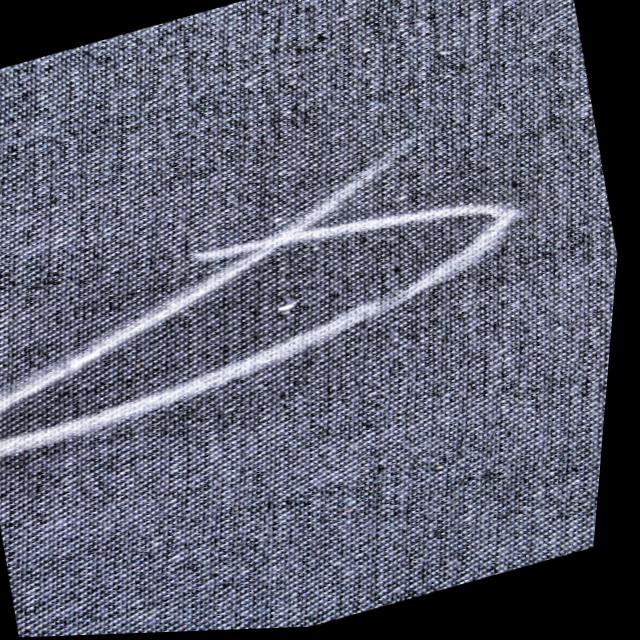Hole: (252, 282, 331, 333)
